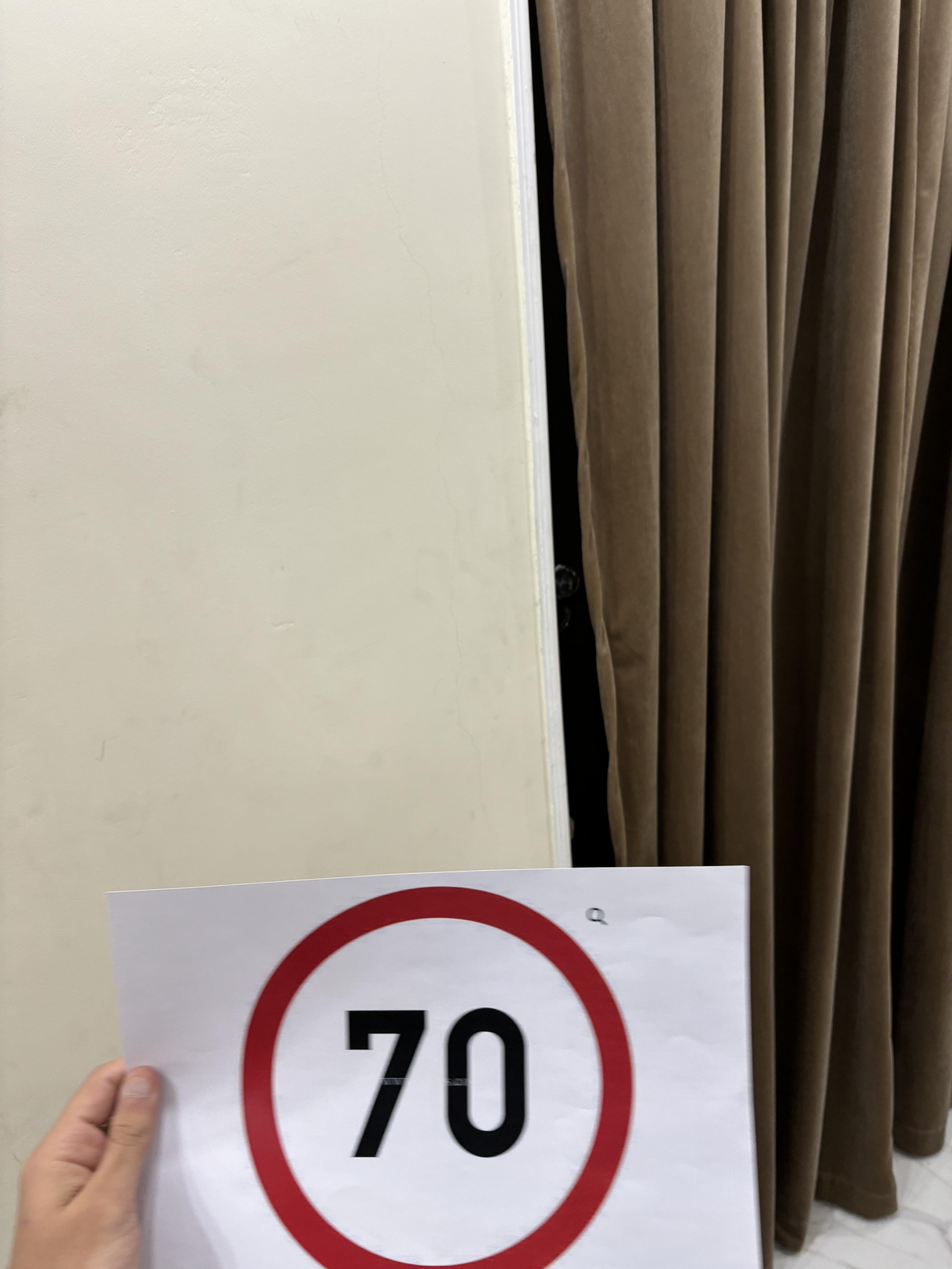70-Speed: (235, 887, 638, 1269)
